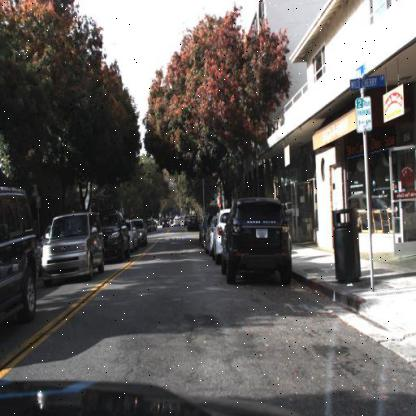car: (217, 192, 296, 288), (0, 182, 40, 334), (38, 206, 105, 286), (101, 211, 130, 268), (98, 211, 131, 258), (212, 208, 234, 268), (124, 218, 137, 255)
